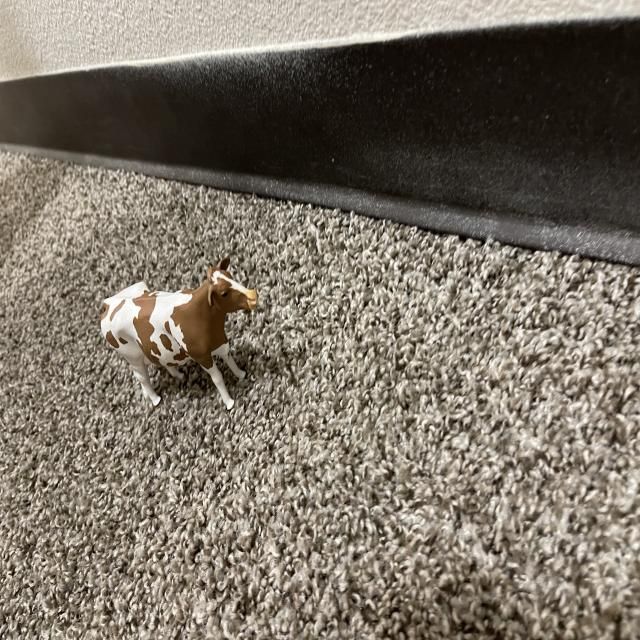cow: (93, 246, 262, 415)
